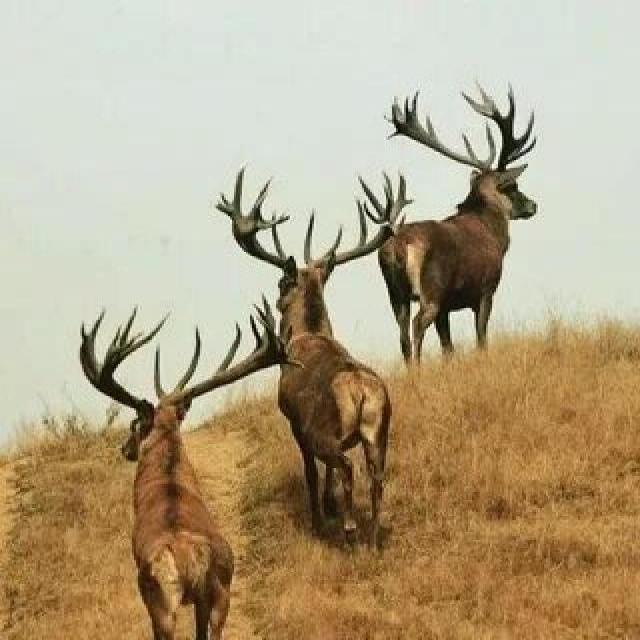deer: (23, 276, 293, 604), (322, 80, 589, 384), (219, 161, 422, 504)
